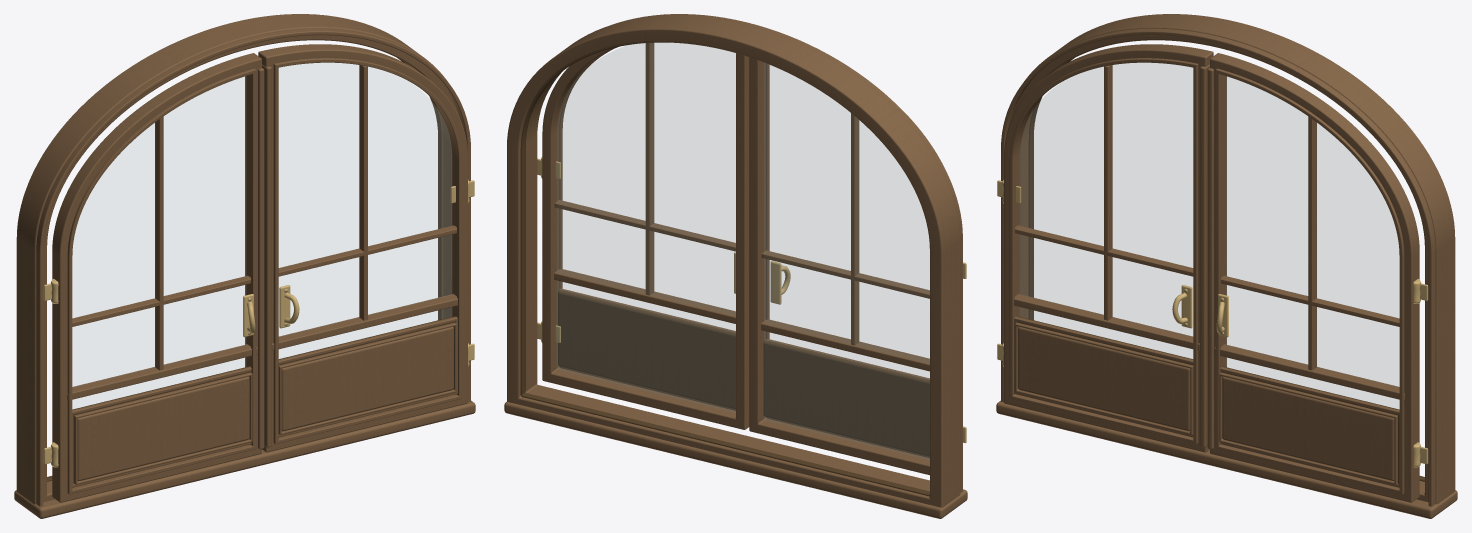
The model's file is back-room-04.glb.
3 renders of one model, left to right at view 1: azimuth 30°, elevation 25°; view 2: azimuth 150°, elevation 25°; view 3: azimuth 330°, elevation 25°, orthographic.
Parts seen in each view (by area): view 1: hinge_left__Joinery_warm_walnut, hinge_left__Joinery_clear_glass, hinge_right__Joinery_clear_glass, hinge_right__Joinery_warm_walnut, frame__Joinery_warm_walnut, frame__Joinery_recessed_walnut, hinge_left__Joinery_brass_fittings, hinge_right__Joinery_brass_fittings, hinge_left__Joinery_recessed_walnut; view 2: hinge_right__Joinery_clear_glass, hinge_left__Joinery_clear_glass, frame__Joinery_warm_walnut, hinge_right__Joinery_warm_walnut, hinge_left__Joinery_warm_walnut, hinge_right__Joinery_recessed_walnut, hinge_left__Joinery_recessed_walnut, frame__Joinery_recessed_walnut, hinge_right__Joinery_brass_fittings; view 3: hinge_right__Joinery_warm_walnut, hinge_right__Joinery_clear_glass, hinge_left__Joinery_clear_glass, hinge_left__Joinery_warm_walnut, frame__Joinery_warm_walnut, frame__Joinery_recessed_walnut, hinge_right__Joinery_brass_fittings, hinge_left__Joinery_brass_fittings, hinge_right__Joinery_recessed_walnut.
Boxes of the visible parts, bbox=[...] form: hinge_left__Joinery_warm_walnut: bbox=[52, 53, 271, 502]; hinge_left__Joinery_clear_glass: bbox=[72, 76, 245, 408]; hinge_right__Joinery_clear_glass: bbox=[279, 63, 451, 358]; hinge_right__Joinery_warm_walnut: bbox=[258, 44, 467, 452]; frame__Joinery_warm_walnut: bbox=[14, 14, 475, 518]; frame__Joinery_recessed_walnut: bbox=[47, 58, 443, 481]; hinge_left__Joinery_brass_fittings: bbox=[51, 279, 299, 467]; hinge_right__Joinery_brass_fittings: bbox=[243, 180, 469, 366]; hinge_left__Joinery_recessed_walnut: bbox=[72, 366, 250, 483]; hinge_right__Joinery_clear_glass: bbox=[557, 43, 735, 412]; hinge_left__Joinery_clear_glass: bbox=[764, 63, 929, 459]; frame__Joinery_warm_walnut: bbox=[504, 14, 967, 518]; hinge_right__Joinery_warm_walnut: bbox=[542, 42, 749, 429]; hinge_left__Joinery_warm_walnut: bbox=[749, 57, 940, 475]; hinge_right__Joinery_recessed_walnut: bbox=[558, 290, 735, 409]; hinge_left__Joinery_recessed_walnut: bbox=[763, 340, 929, 456]; frame__Joinery_recessed_walnut: bbox=[520, 42, 929, 496]; hinge_right__Joinery_brass_fittings: bbox=[541, 156, 790, 342]; hinge_right__Joinery_warm_walnut: bbox=[1200, 53, 1419, 502]; hinge_right__Joinery_clear_glass: bbox=[1226, 76, 1399, 408]; hinge_left__Joinery_clear_glass: bbox=[1020, 63, 1192, 358]; hinge_left__Joinery_warm_walnut: bbox=[1004, 44, 1213, 452]; frame__Joinery_warm_walnut: bbox=[996, 14, 1457, 518]; frame__Joinery_recessed_walnut: bbox=[1028, 58, 1424, 481]; hinge_right__Joinery_brass_fittings: bbox=[1172, 279, 1420, 467]; hinge_left__Joinery_brass_fittings: bbox=[1002, 180, 1228, 366]; hinge_right__Joinery_recessed_walnut: bbox=[1221, 366, 1399, 483].
Bounding box in the file's own units: 2.88 × 2.69 × 0.5079.
5 materials, 2 textured.
